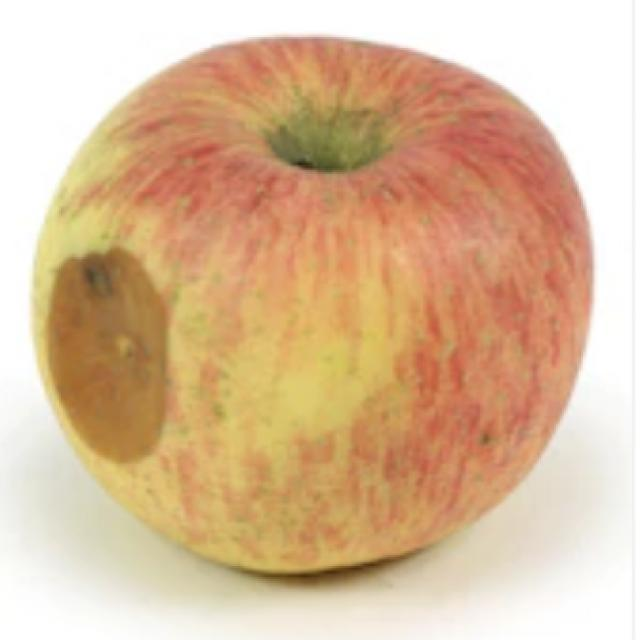rotten_apple: (40, 36, 592, 580)
